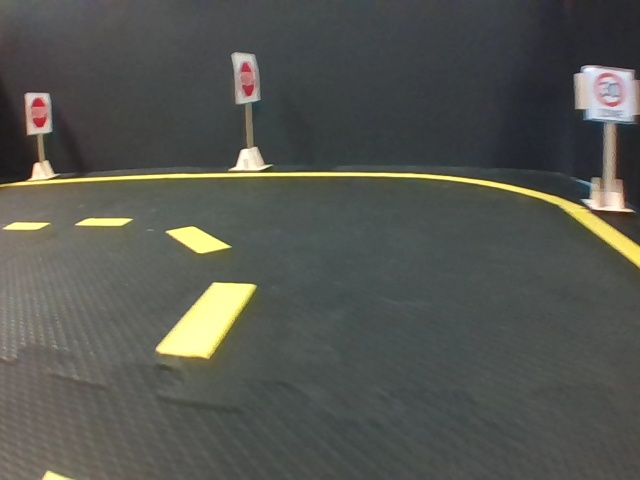30: (586, 68, 634, 118)
stop: (233, 51, 258, 104), (24, 93, 51, 133)
